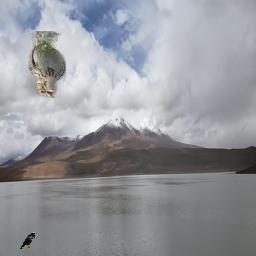Crow: (19, 233, 35, 250)
Sparrow: (28, 32, 66, 99)
